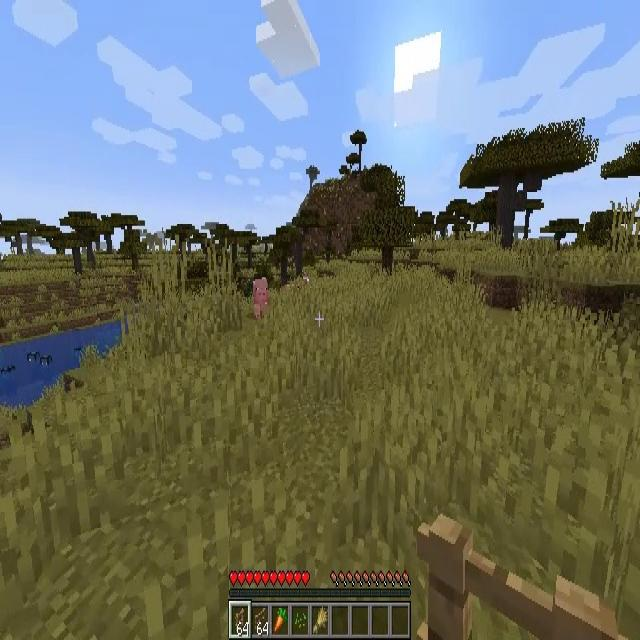pig: (252, 279, 269, 317)
